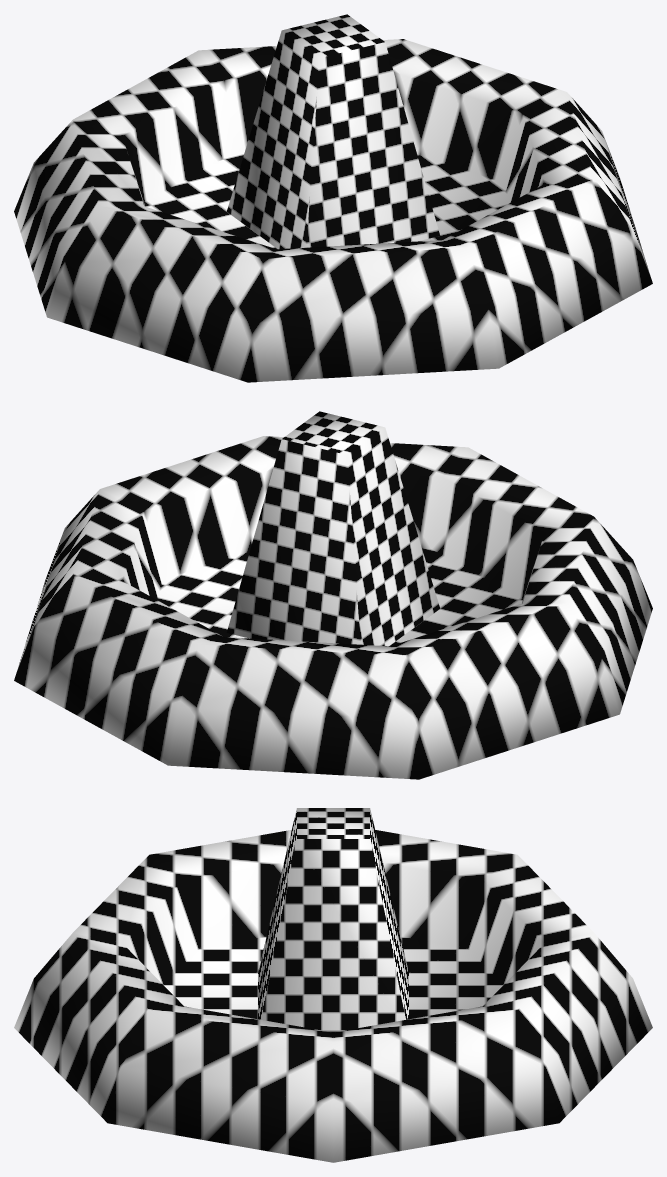
The model's file is stwe2.dae.
3 views of the same model, one above another, from view 1: azimuth 30°, elevation 25°; view 2: azimuth 150°, elevation 25°; view 3: azimuth 270°, elevation 25° (orthographic). The views are drawn at different scales.
Parts seen in each view (by area): view 1: main obj; view 2: main obj; view 3: main obj.
Boxes of the visible parts, <box> form: main obj: <box>14,14,652,382</box>; main obj: <box>14,411,652,779</box>; main obj: <box>14,808,652,1162</box>.
Size of the model in its own units: 5.47 by 5.47 by 1.93.
1 material, 1 textured.
